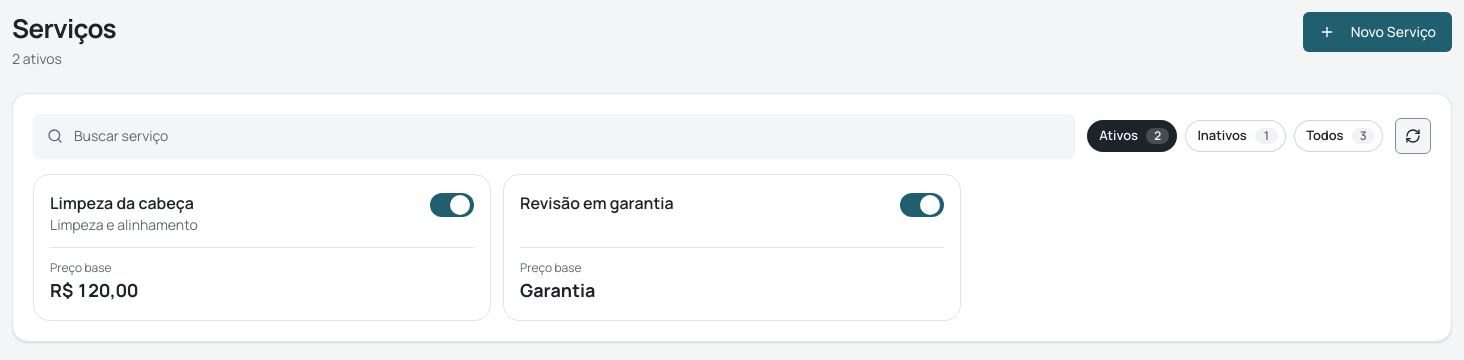
Test: Serviços (fase 8) › Todos mostra o inativo com o interruptor desligado e Editar
Expected: the list named "Serviços" is shown, [33, 174, 961, 320]
Step 1. Click the button "Todos 3" → (1339, 136), box [1294, 120, 1383, 152]
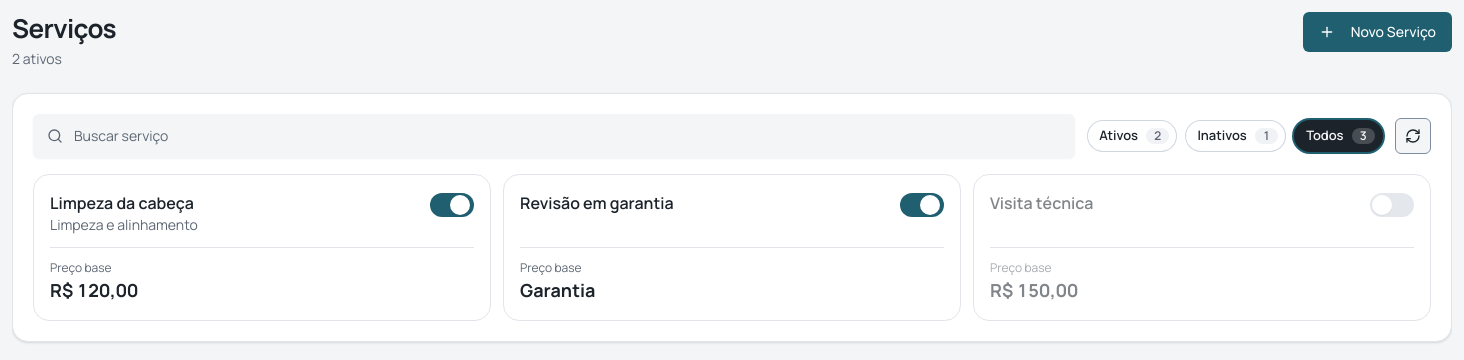
Now the button with aria-label "Editar Visita técnica" is shown, box [990, 190, 1093, 214]
